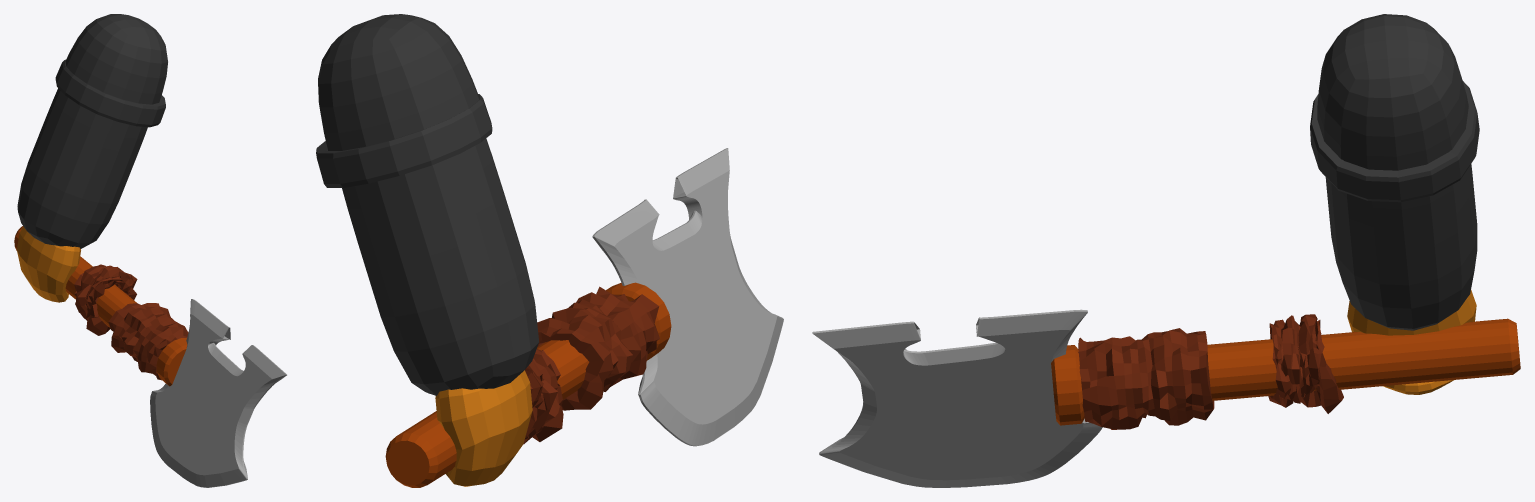
The model's file is rightArm.obj.
3 views of the same model, side by side, from view 1: azimuth 30°, elevation 25°; view 2: azimuth 150°, elevation 25°; view 3: azimuth 270°, elevation 25° (orthographic). The views are drawn at different scales.
Visible parts, largest first — view 1: KNIGHT_meshes_Left_ARM1_Left_ARM, KNIGHT_Cloth_NURBS4_CENTRE_CHEST_RIGHT_SHOULDER_RIGHT_ARM_H.000, KNIGHT_Cloth_NURBS4_CENTRE_CHEST_RIGHT_SHOULDER_RIGHT_ARM_HAND_, KNIGHT_Cloth_NURBS4_CENTRE_CHEST_RIGHT_SHOULDER_RIGHT_ARM_H.002, KNIGHT_Cloth_NURBS4_CENTRE_CHEST_RIGHT_SHOULDER_RIGHT_ARM_H.004, KNIGHT_Cloth_NURBS4_CENTRE_CHEST_RIGHT_SHOULDER_RIGHT_ARM_H.001, KNIGHT_Cloth_NURBS4_CENTRE_CHEST_RIGHT_SHOULDER_RIGHT_ARM_H.003; view 2: KNIGHT_meshes_Left_ARM1_Left_ARM, KNIGHT_Cloth_NURBS4_CENTRE_CHEST_RIGHT_SHOULDER_RIGHT_ARM_H.000, KNIGHT_Cloth_NURBS4_CENTRE_CHEST_RIGHT_SHOULDER_RIGHT_ARM_H.002, KNIGHT_Cloth_NURBS4_CENTRE_CHEST_RIGHT_SHOULDER_RIGHT_ARM_HAND_, KNIGHT_Cloth_NURBS4_CENTRE_CHEST_RIGHT_SHOULDER_RIGHT_ARM_H.004, KNIGHT_Cloth_NURBS4_CENTRE_CHEST_RIGHT_SHOULDER_RIGHT_ARM_H.001, KNIGHT_Cloth_NURBS4_CENTRE_CHEST_RIGHT_SHOULDER_RIGHT_ARM_H.003; view 3: KNIGHT_meshes_Left_ARM1_Left_ARM, KNIGHT_Cloth_NURBS4_CENTRE_CHEST_RIGHT_SHOULDER_RIGHT_ARM_H.000, KNIGHT_Cloth_NURBS4_CENTRE_CHEST_RIGHT_SHOULDER_RIGHT_ARM_H.001, KNIGHT_Cloth_NURBS4_CENTRE_CHEST_RIGHT_SHOULDER_RIGHT_ARM_H.002, KNIGHT_Cloth_NURBS4_CENTRE_CHEST_RIGHT_SHOULDER_RIGHT_ARM_HAND_, KNIGHT_Cloth_NURBS4_CENTRE_CHEST_RIGHT_SHOULDER_RIGHT_ARM_H.003, KNIGHT_Cloth_NURBS4_CENTRE_CHEST_RIGHT_SHOULDER_RIGHT_ARM_H.004.
Part boxes in pixels (<box>): KNIGHT_meshes_Left_ARM1_Left_ARM: <box>17,14,167,248</box>; KNIGHT_Cloth_NURBS4_CENTRE_CHEST_RIGHT_SHOULDER_RIGHT_ARM_H.000: <box>155,314,271,475</box>; KNIGHT_Cloth_NURBS4_CENTRE_CHEST_RIGHT_SHOULDER_RIGHT_ARM_HAND_: <box>150,299,286,487</box>; KNIGHT_Cloth_NURBS4_CENTRE_CHEST_RIGHT_SHOULDER_RIGHT_ARM_H.002: <box>108,303,188,380</box>; KNIGHT_Cloth_NURBS4_CENTRE_CHEST_RIGHT_SHOULDER_RIGHT_ARM_H.004: <box>17,226,80,302</box>; KNIGHT_Cloth_NURBS4_CENTRE_CHEST_RIGHT_SHOULDER_RIGHT_ARM_H.001: <box>14,226,187,386</box>; KNIGHT_Cloth_NURBS4_CENTRE_CHEST_RIGHT_SHOULDER_RIGHT_ARM_H.003: <box>74,264,137,335</box>; KNIGHT_meshes_Left_ARM1_Left_ARM: <box>316,14,538,395</box>; KNIGHT_Cloth_NURBS4_CENTRE_CHEST_RIGHT_SHOULDER_RIGHT_ARM_H.000: <box>615,170,777,424</box>; KNIGHT_Cloth_NURBS4_CENTRE_CHEST_RIGHT_SHOULDER_RIGHT_ARM_H.002: <box>537,286,659,410</box>; KNIGHT_Cloth_NURBS4_CENTRE_CHEST_RIGHT_SHOULDER_RIGHT_ARM_HAND_: <box>592,148,783,446</box>; KNIGHT_Cloth_NURBS4_CENTRE_CHEST_RIGHT_SHOULDER_RIGHT_ARM_H.004: <box>435,370,532,486</box>; KNIGHT_Cloth_NURBS4_CENTRE_CHEST_RIGHT_SHOULDER_RIGHT_ARM_H.001: <box>385,282,671,487</box>; KNIGHT_Cloth_NURBS4_CENTRE_CHEST_RIGHT_SHOULDER_RIGHT_ARM_H.003: <box>523,349,563,444</box>; KNIGHT_meshes_Left_ARM1_Left_ARM: <box>1310,14,1479,330</box>; KNIGHT_Cloth_NURBS4_CENTRE_CHEST_RIGHT_SHOULDER_RIGHT_ARM_H.000: <box>834,325,1083,480</box>; KNIGHT_Cloth_NURBS4_CENTRE_CHEST_RIGHT_SHOULDER_RIGHT_ARM_H.001: <box>1051,318,1520,425</box>; KNIGHT_Cloth_NURBS4_CENTRE_CHEST_RIGHT_SHOULDER_RIGHT_ARM_H.002: <box>1078,328,1214,429</box>; KNIGHT_Cloth_NURBS4_CENTRE_CHEST_RIGHT_SHOULDER_RIGHT_ARM_HAND_: <box>812,309,1102,487</box>; KNIGHT_Cloth_NURBS4_CENTRE_CHEST_RIGHT_SHOULDER_RIGHT_ARM_H.003: <box>1268,314,1343,413</box>; KNIGHT_Cloth_NURBS4_CENTRE_CHEST_RIGHT_SHOULDER_RIGHT_ARM_H.004: <box>1347,290,1476,394</box>.
Bounding box in the file's own units: 1.62 × 3.97 × 4.89.
